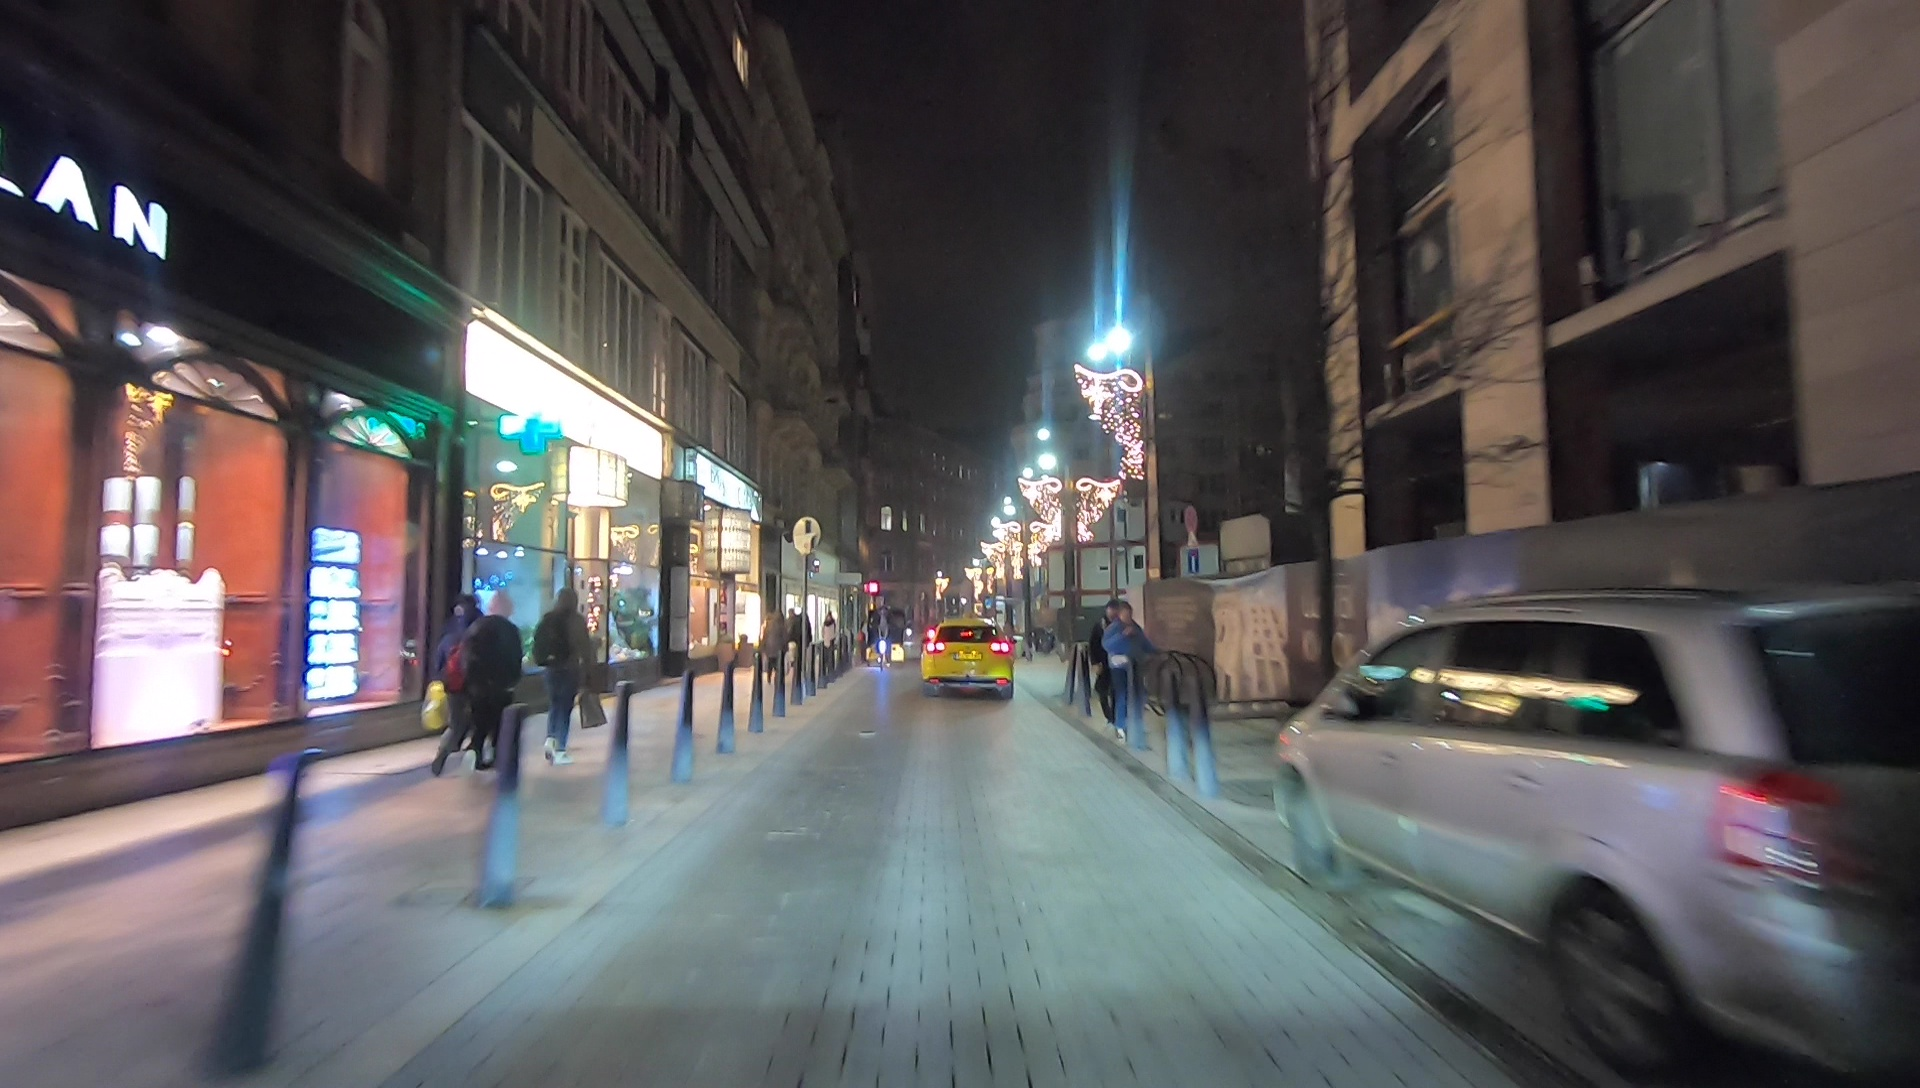person: (423, 579, 491, 776), (462, 587, 528, 778), (537, 585, 603, 762), (1104, 605, 1154, 745), (766, 613, 785, 684), (820, 611, 837, 661)
